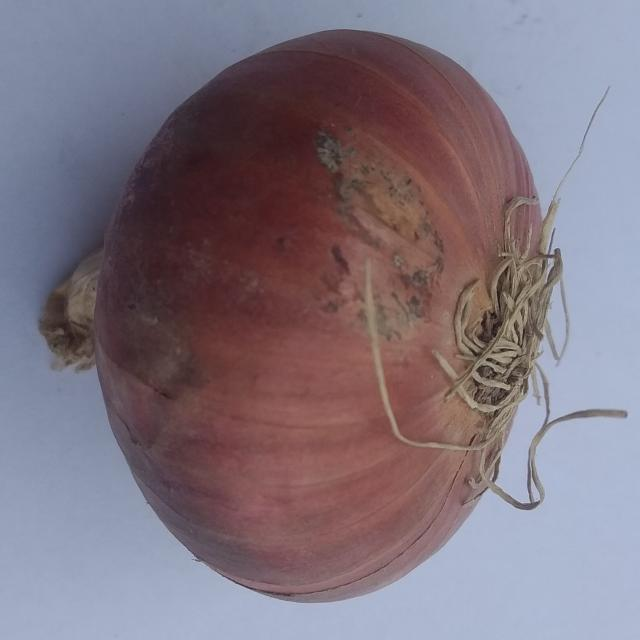onion: (34, 28, 628, 605)
